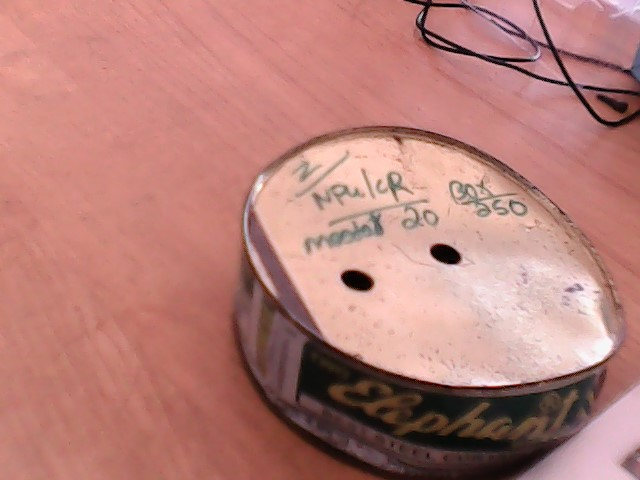Metal: (215, 115, 640, 480)
